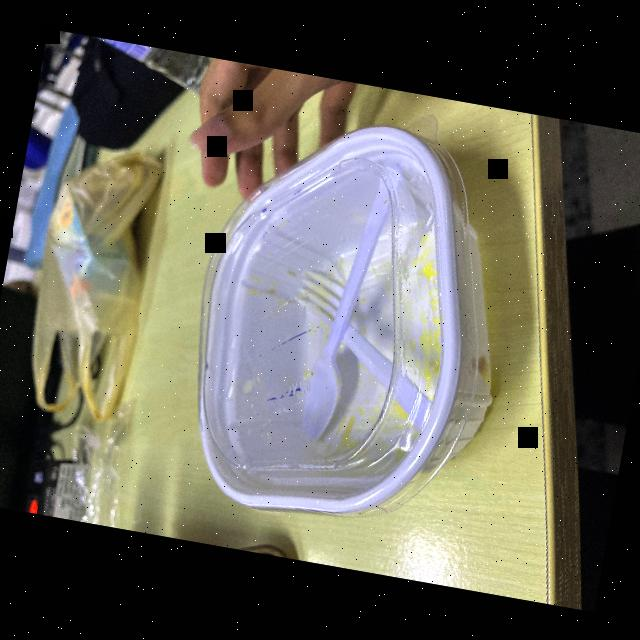plastic_box: (168, 105, 552, 557)
